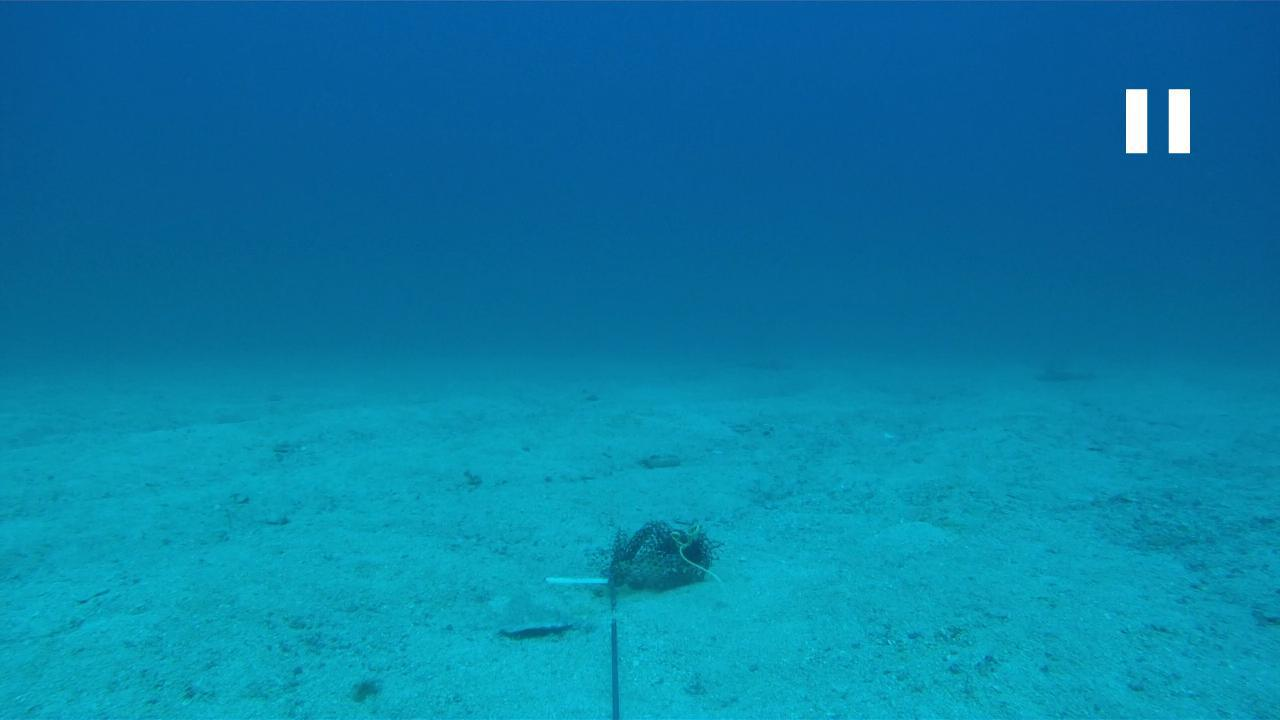bothus: (484, 592, 575, 640)
